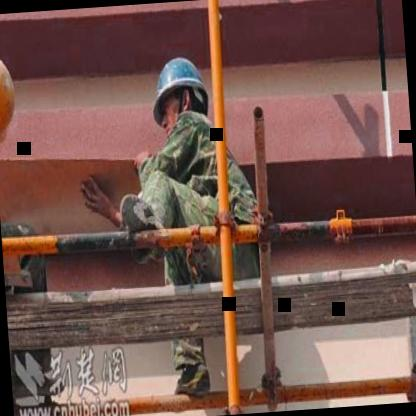helmet: (143, 42, 215, 146)
